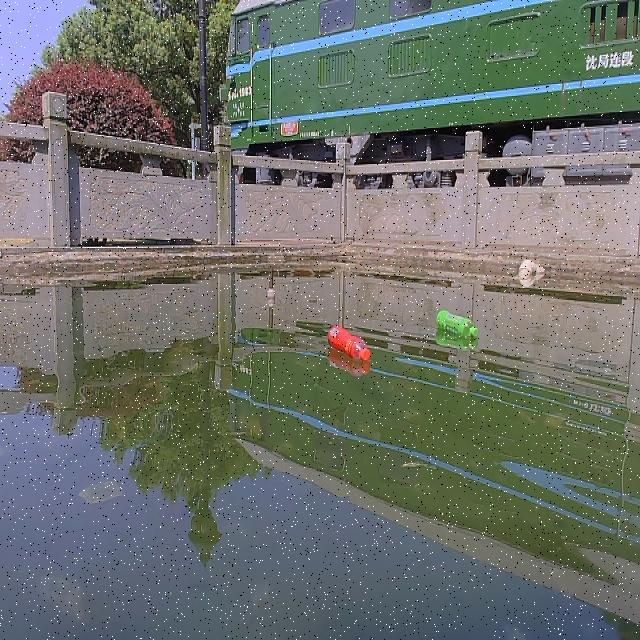bottle: (430, 303, 479, 344), (325, 321, 370, 363)
